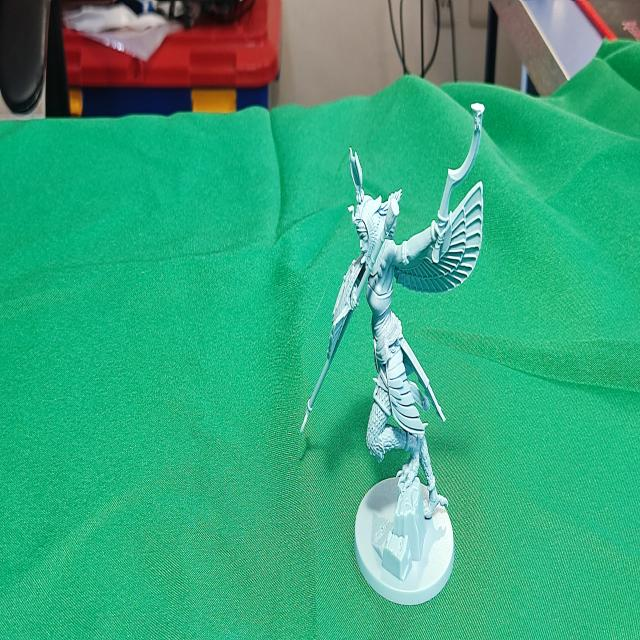isis: (287, 80, 499, 626)
